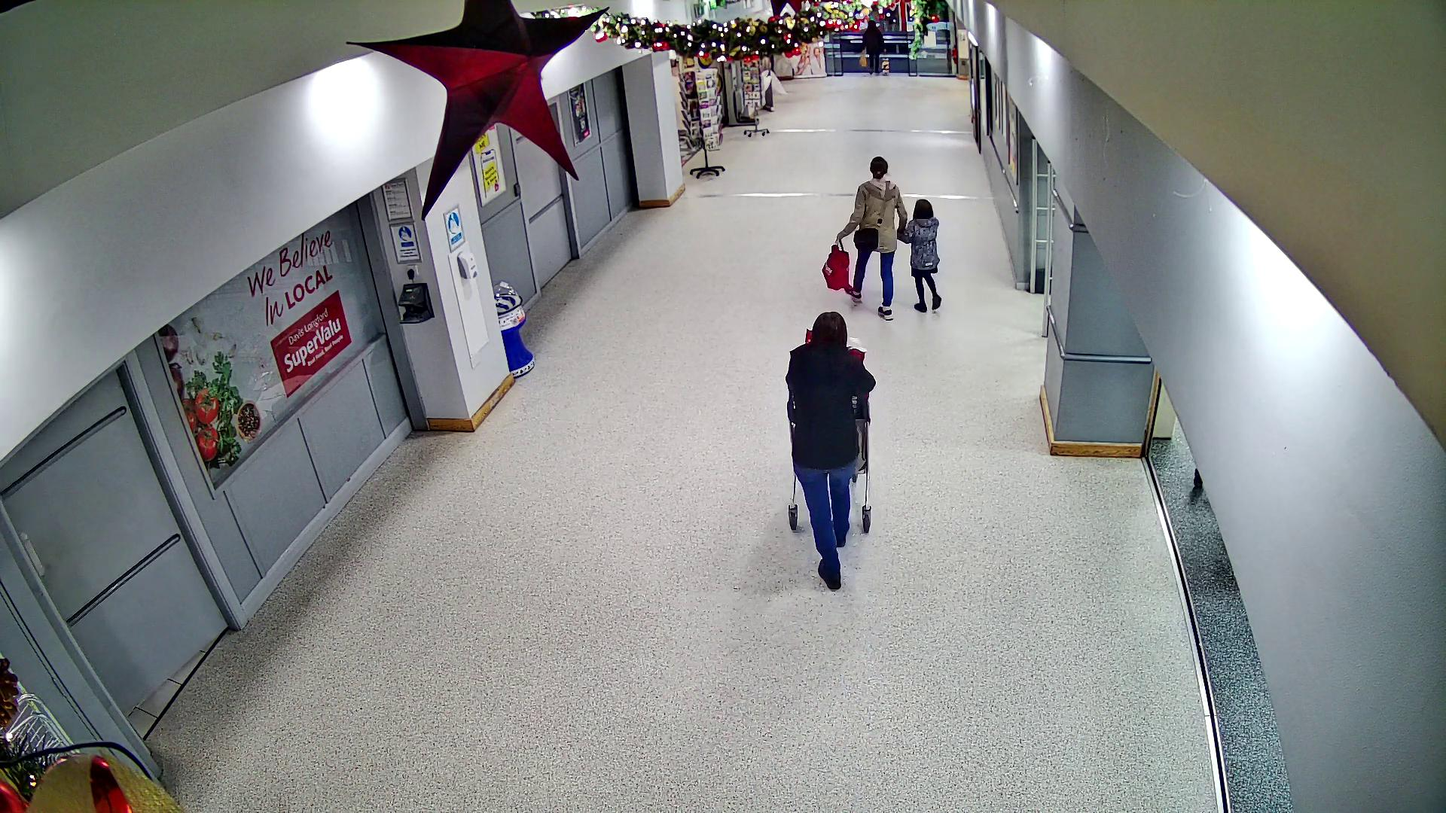backpack-or-handbag: (852, 227, 879, 252)
filled-shopping-bags: (822, 243, 850, 289)
filled-trolly: (787, 332, 871, 532)
person: (787, 310, 875, 591), (836, 156, 908, 321)
person-with-backpack-handbag-and-shopping-bag-s-: (822, 156, 908, 321)
person-with-filled-basket-trolly: (788, 309, 876, 590)
